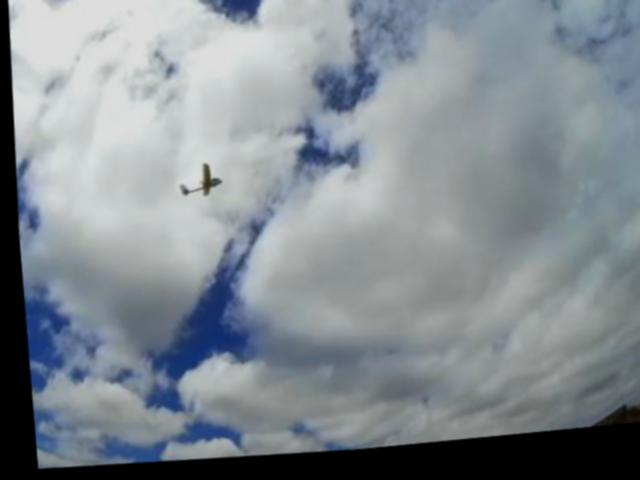uav: (168, 152, 232, 211)
